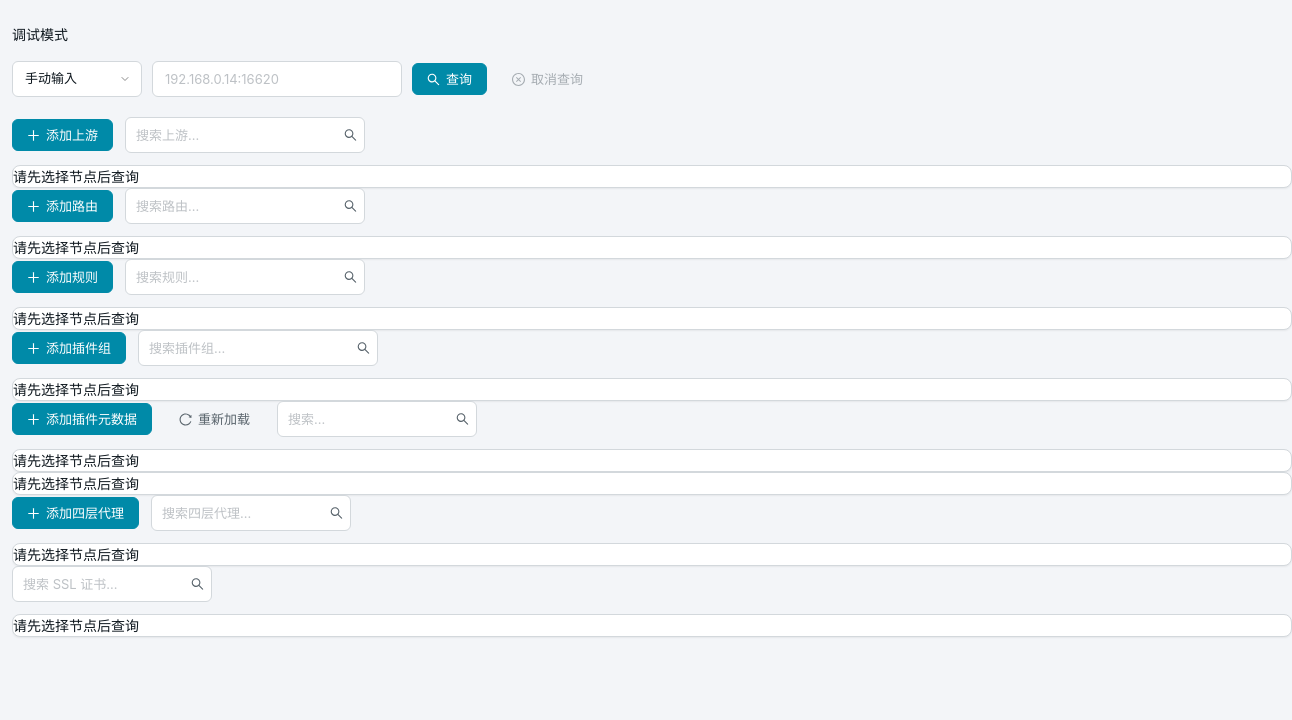
Test case: 批 1：查询反馈与正确性 › 全失败：不显示「已连接」+ 错误横幅
Type "10.255.255.1:11999" into the field with class "form-input" showing "192.168.0.14:16620" at (277, 79), box [152, 61, 402, 97]
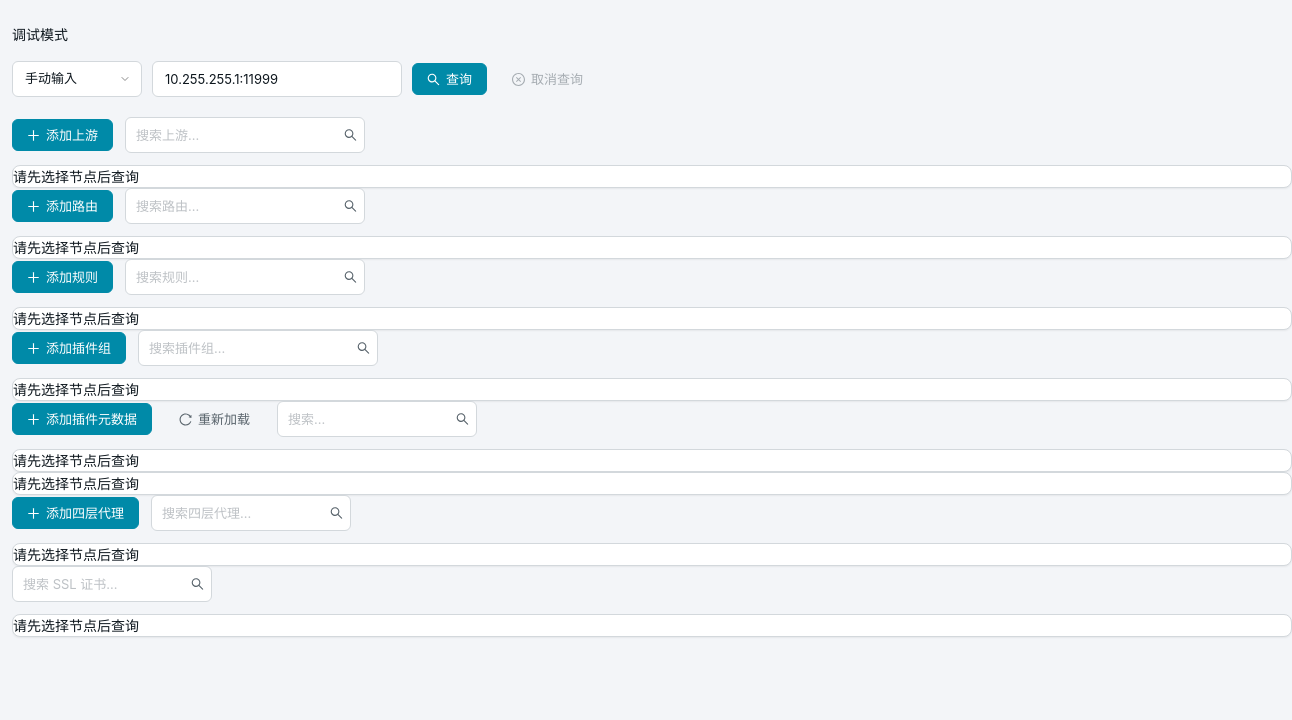
Click the button "查询" at (450, 79), box [412, 63, 487, 95]
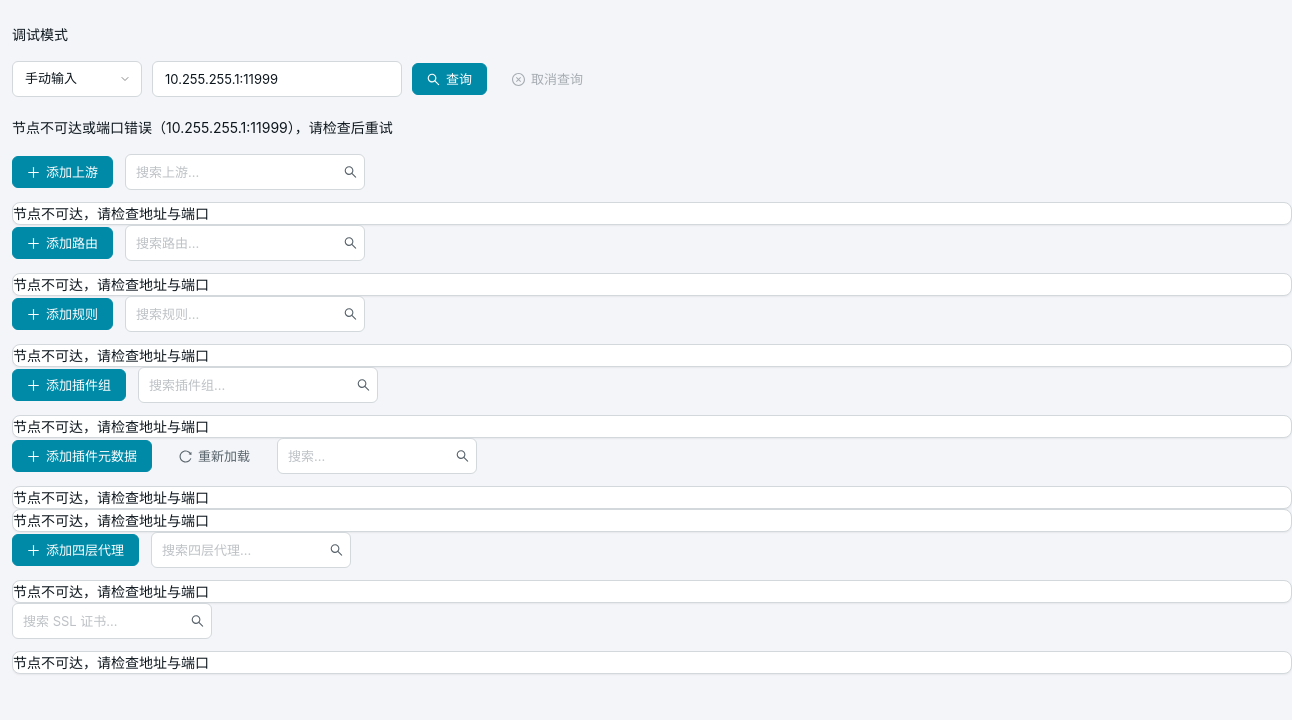
Check: the text "节点不可达或端口错误" is shown, box [12, 119, 393, 136]
Check: the text "10.255.255.1:11999" is shown, box [12, 119, 393, 136]
